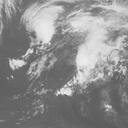cyclone: (76, 40, 117, 86)
